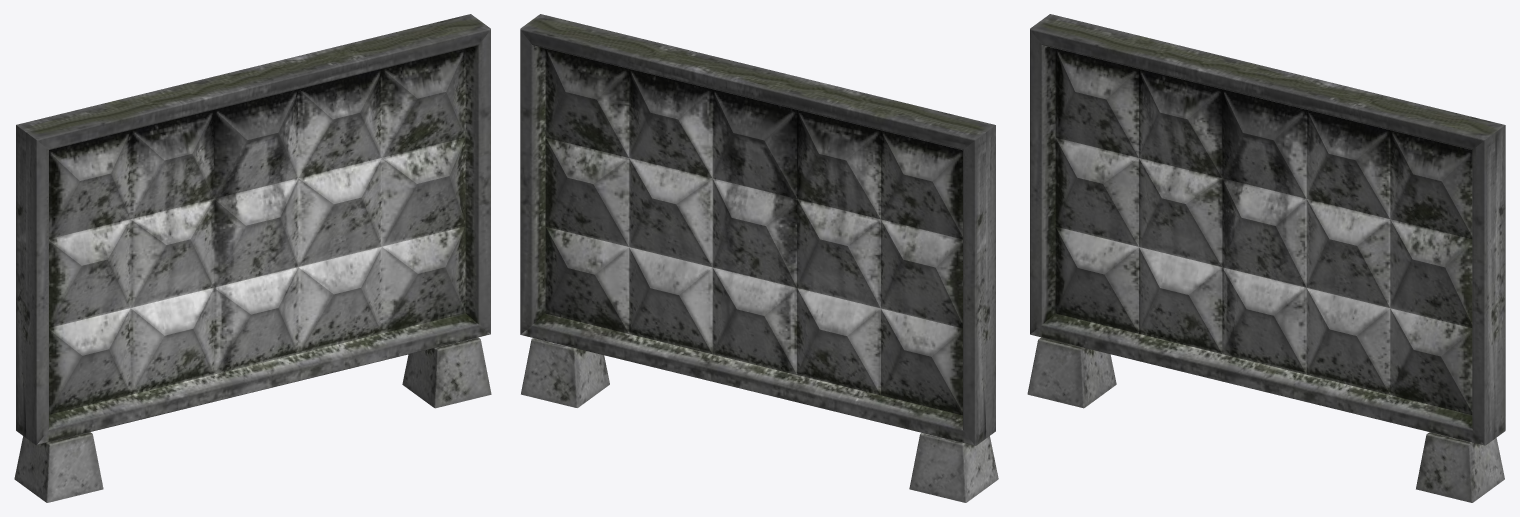
The model's file is beton.glb.
The picture shows the model from 3 angles, left to right: view 1: azimuth 30°, elevation 25°; view 2: azimuth 150°, elevation 25°; view 3: azimuth 330°, elevation 25°; orthographic projection.
Parts seen in each view (by area): view 1: beton_wall_block; view 2: beton_wall_block; view 3: beton_wall_block.
Boxes of the visible parts, x1,y1,x2,y2 form: beton_wall_block: [14, 14, 491, 502]; beton_wall_block: [520, 14, 998, 502]; beton_wall_block: [1027, 14, 1505, 502].
Size of the model in its own units: 3.18 by 2.4 by 0.3992.
1 material, 1 textured.
